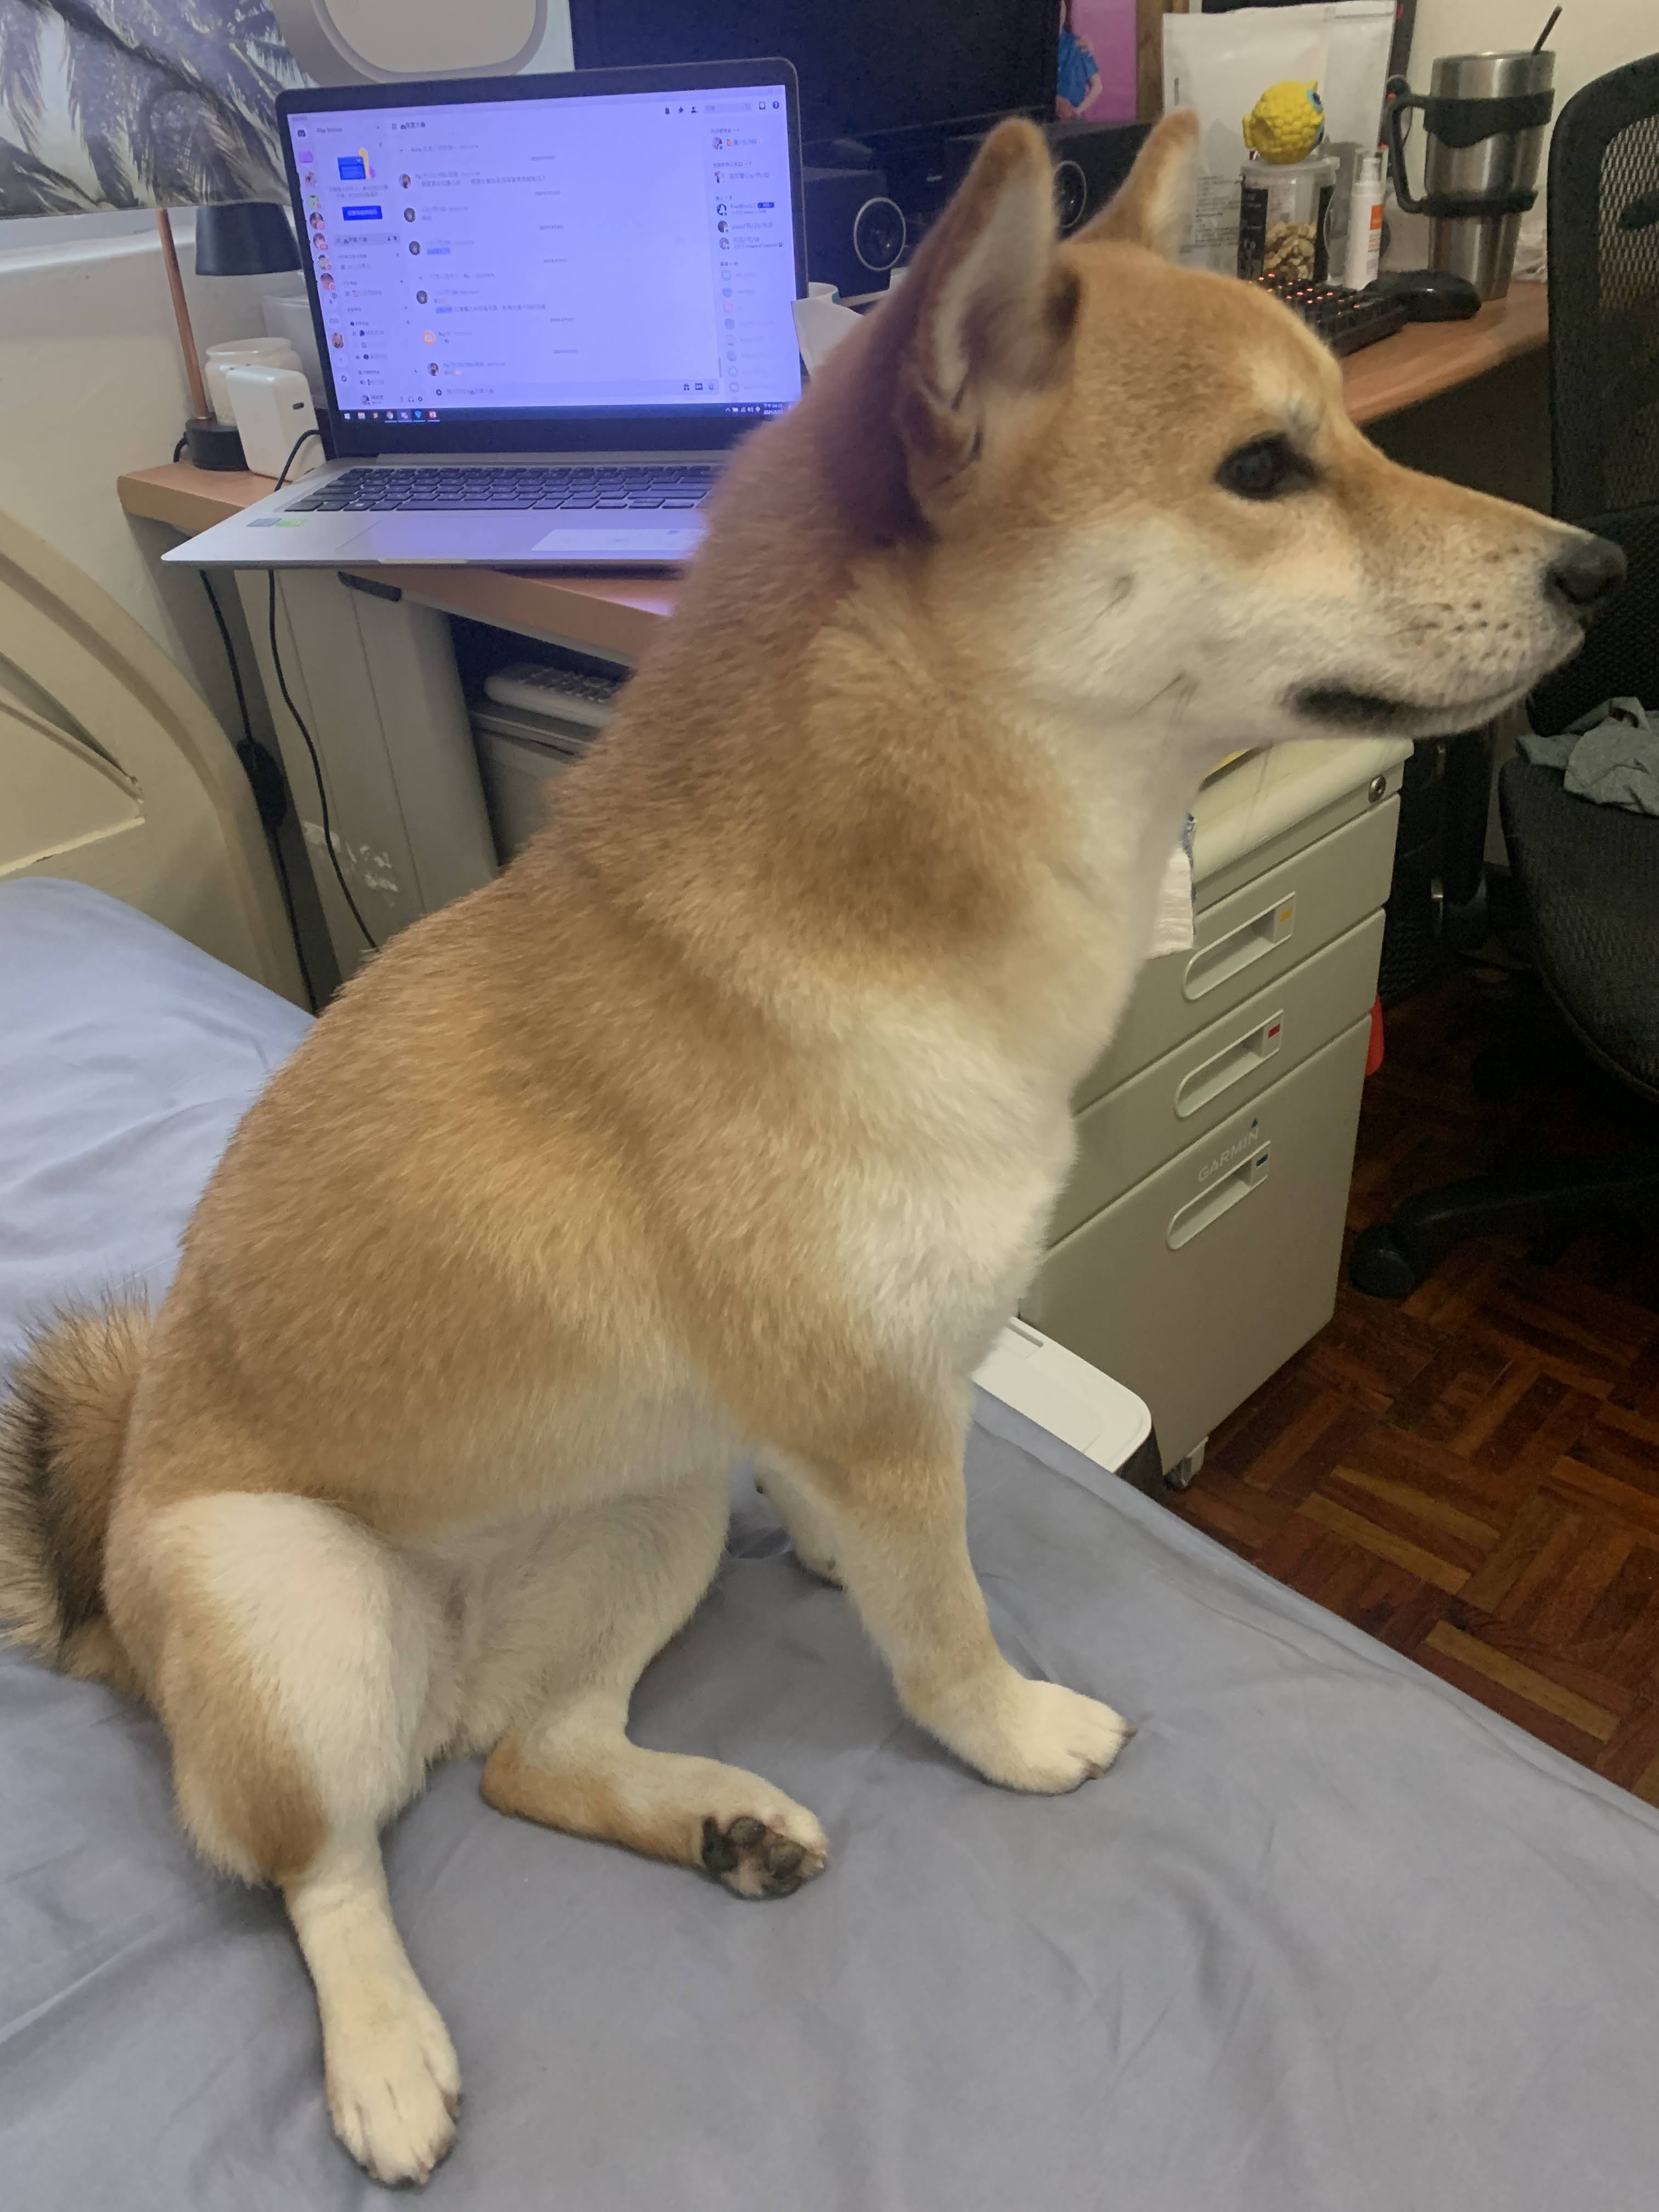Sit down: (0, 120, 1642, 2203)
